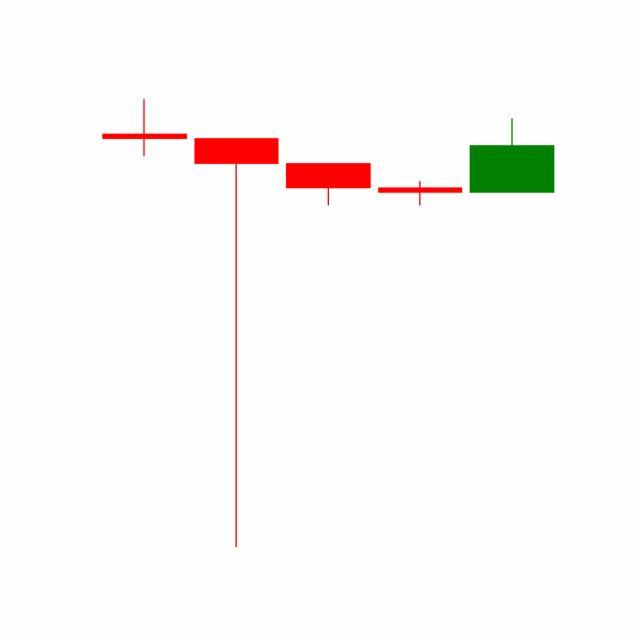Hanging Man: (374, 182, 468, 207)
